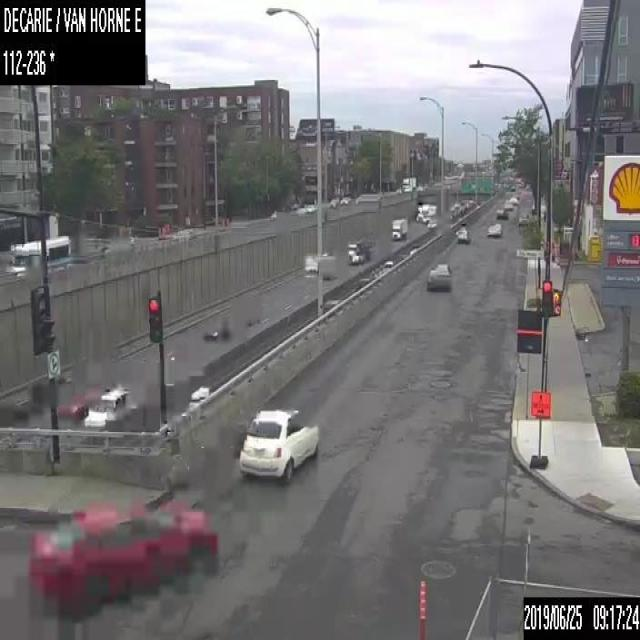bus: (6, 233, 71, 278)
construction: (528, 389, 550, 469), (418, 580, 427, 639), (163, 223, 169, 233)
vehicle: (27, 501, 218, 612), (238, 407, 319, 480), (83, 386, 126, 426), (426, 261, 454, 291), (56, 392, 88, 418), (184, 385, 209, 411), (202, 318, 228, 341), (304, 252, 326, 279), (347, 239, 369, 260), (390, 216, 407, 239), (488, 223, 503, 237), (401, 176, 415, 191), (456, 227, 469, 242), (351, 250, 363, 264), (496, 207, 507, 219), (415, 204, 422, 220), (339, 195, 350, 205), (328, 197, 338, 207), (426, 218, 436, 228), (503, 198, 512, 209), (509, 195, 517, 205)
